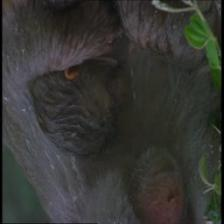monkey: (26, 12, 128, 162), (127, 139, 199, 223)
